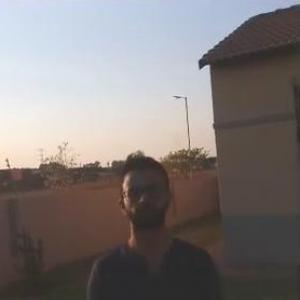follow: (82, 143, 231, 299)
